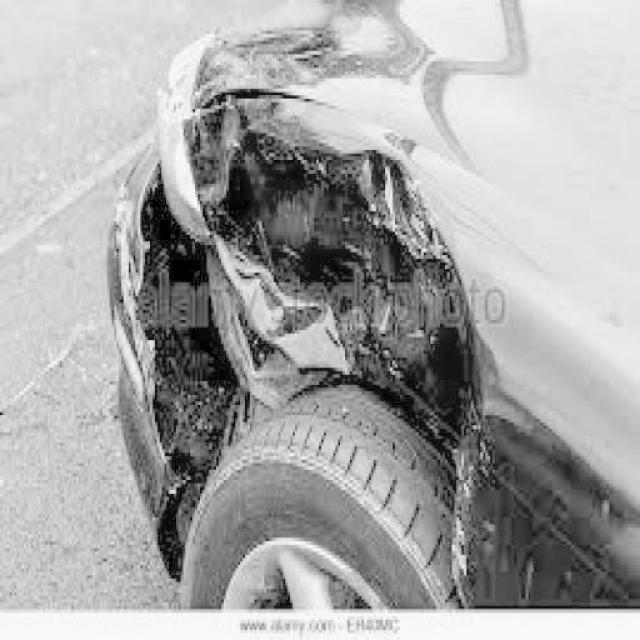car damage: (127, 41, 473, 582)
